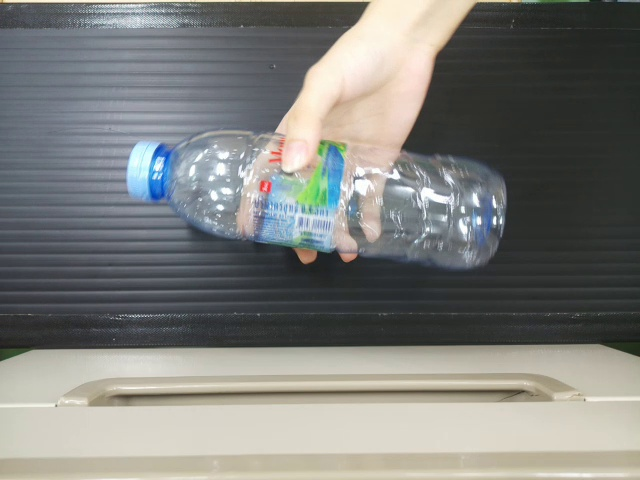bottle: (119, 120, 507, 283)
